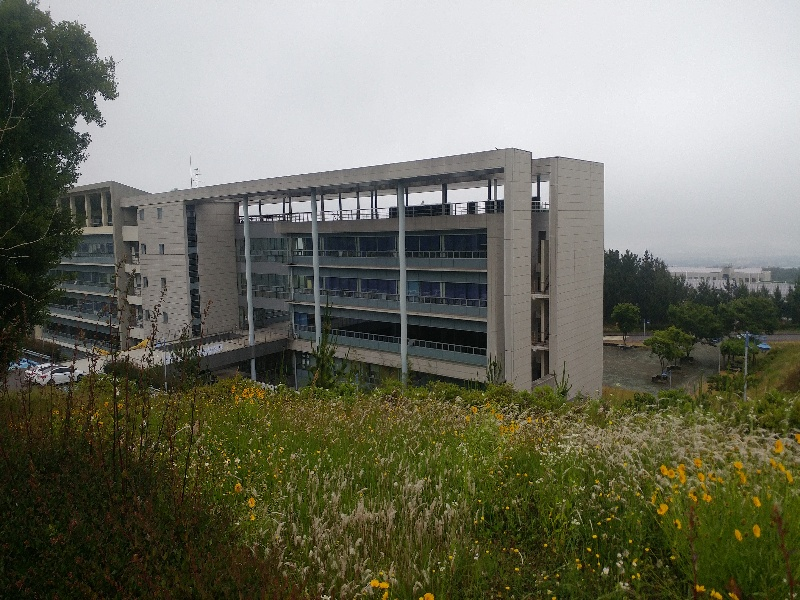Engineering College Building 4: (129, 154, 603, 378)
